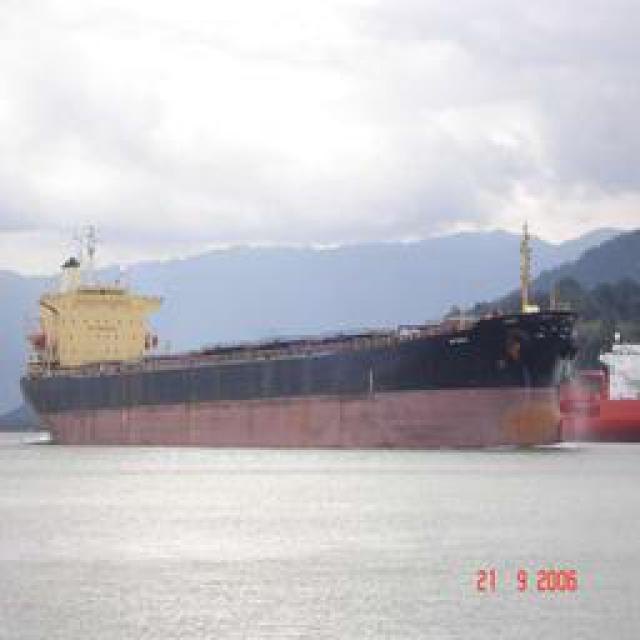Ship: (13, 206, 601, 457)
